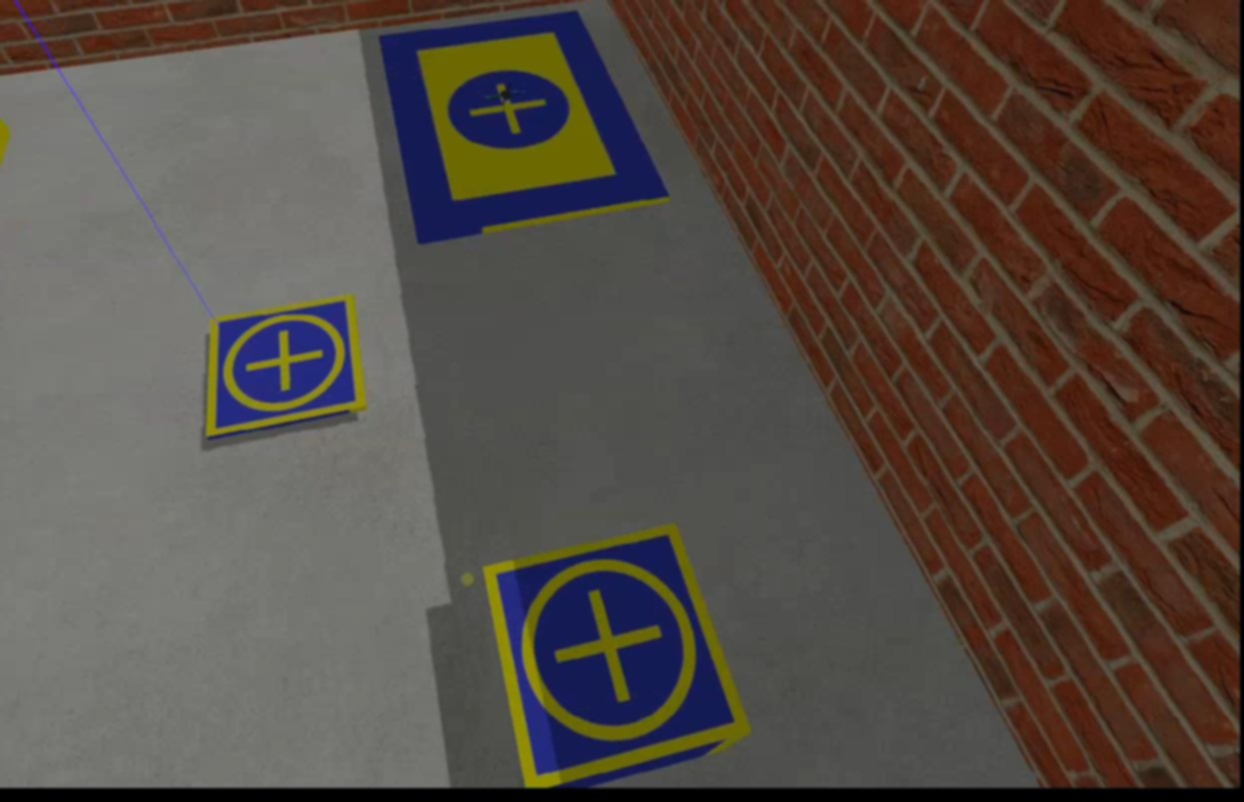large_base: (377, 17, 667, 247)
small_base: (483, 527, 753, 788), (193, 297, 365, 440)
